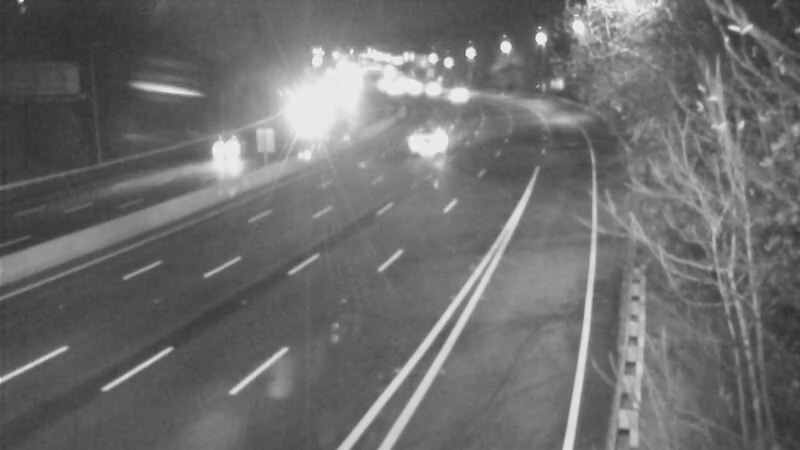vehicle: (189, 119, 269, 199), (434, 70, 484, 120), (400, 115, 450, 165)
